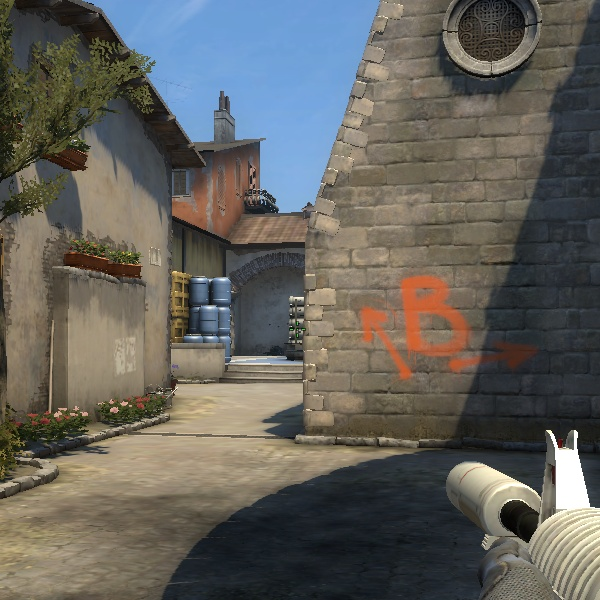ct_body: (280, 294, 311, 354)
